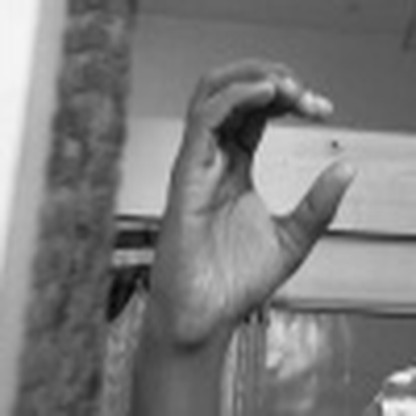c: (143, 47, 365, 315)
